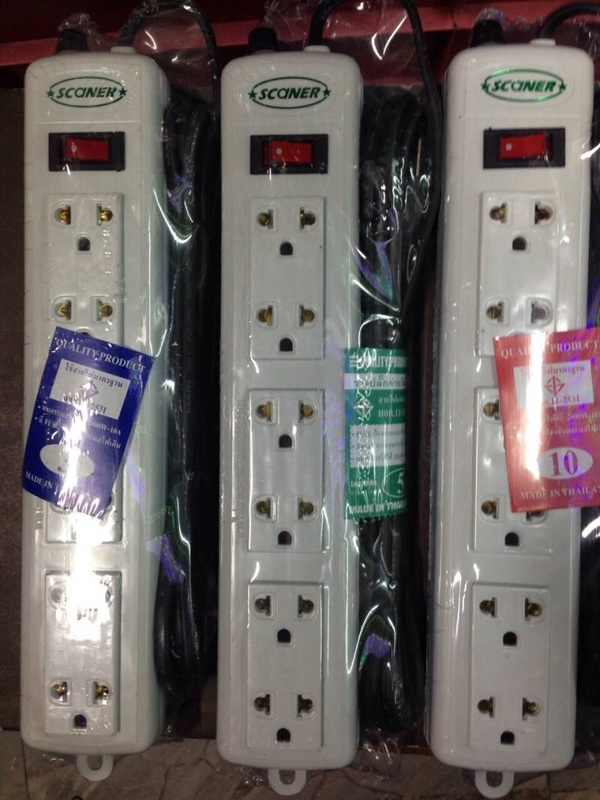Three_eye_plug: (208, 45, 377, 787), (427, 39, 596, 781), (10, 31, 179, 773)
